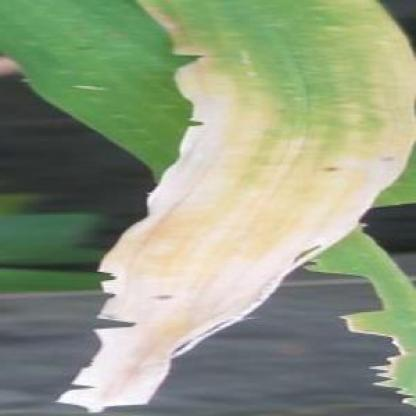Blight: (55, 1, 416, 399)
